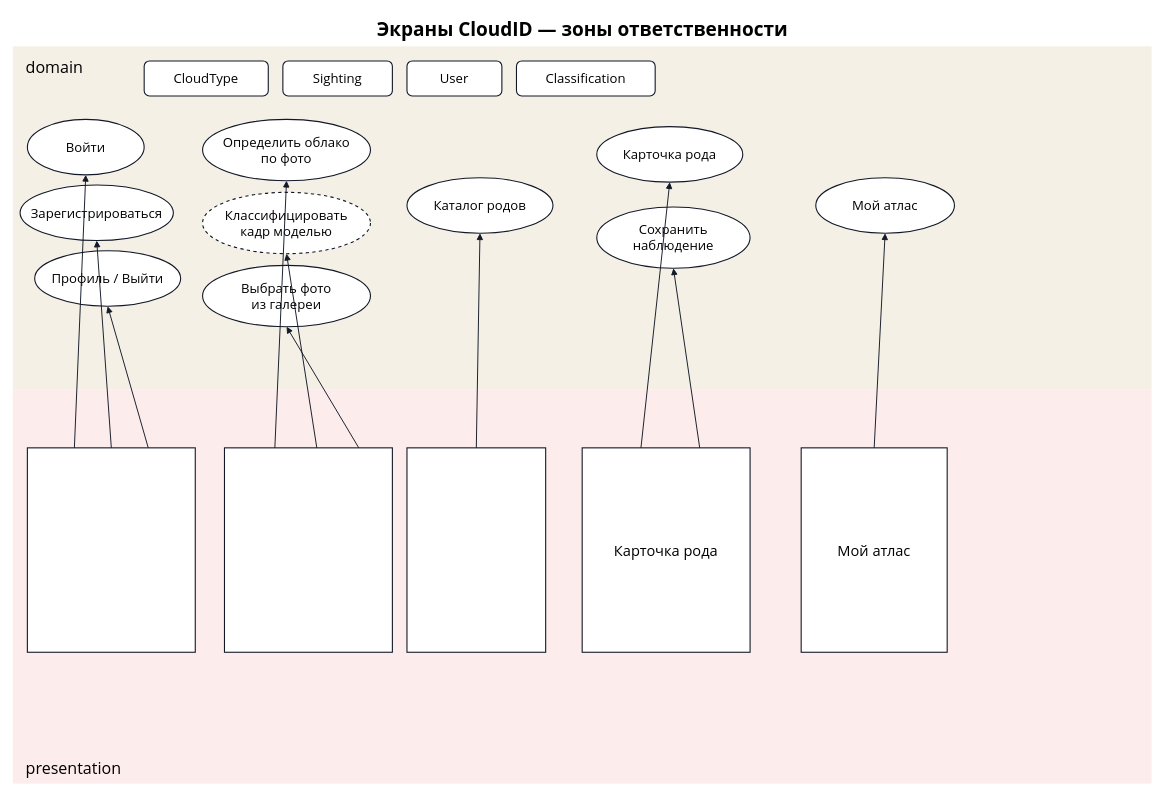
Some shapes in this 1164 by 796 pixel diagram are drawn without their labels. The centre of each missing label's shape, as x and y in pixels:
Вход / Профиль: the point at 110,549
Каталог: the point at 476,549
Поиск по небу: the point at 308,549
